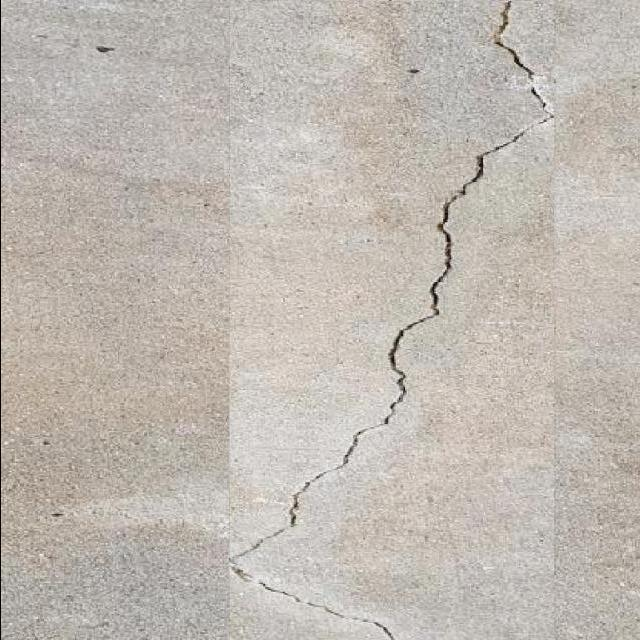crack: (228, 0, 556, 639), (6, 4, 235, 633), (416, 14, 551, 349), (260, 295, 428, 554), (230, 438, 421, 640), (221, 0, 391, 136), (252, 186, 385, 346), (6, 1, 202, 93), (222, 8, 286, 207), (104, 169, 228, 268), (414, 164, 463, 343), (490, 5, 554, 135), (230, 155, 308, 229), (356, 0, 423, 69), (462, 124, 538, 183), (223, 0, 236, 132), (336, 238, 345, 247)
dampens: (457, 154, 486, 197), (491, 1, 513, 47), (438, 197, 456, 237), (455, 180, 474, 199), (77, 621, 108, 631), (474, 155, 486, 177), (501, 1, 513, 14), (382, 413, 392, 427), (437, 222, 447, 234)
dampness: (7, 136, 169, 332), (555, 72, 640, 275), (529, 1, 640, 134)
